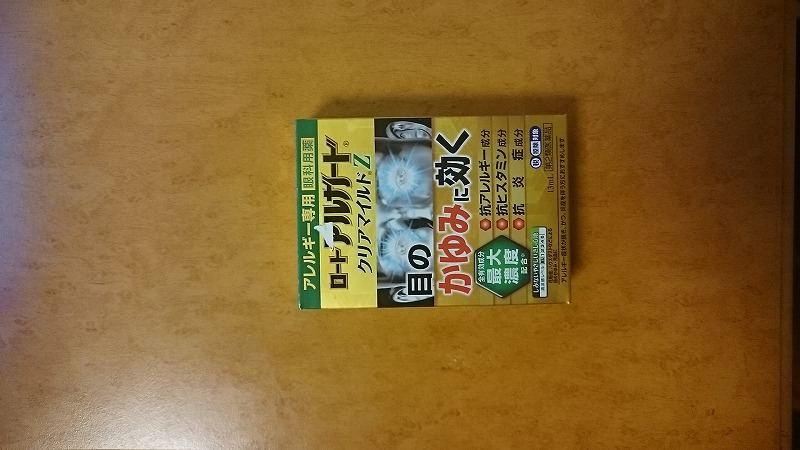C: (290, 111, 582, 315)
